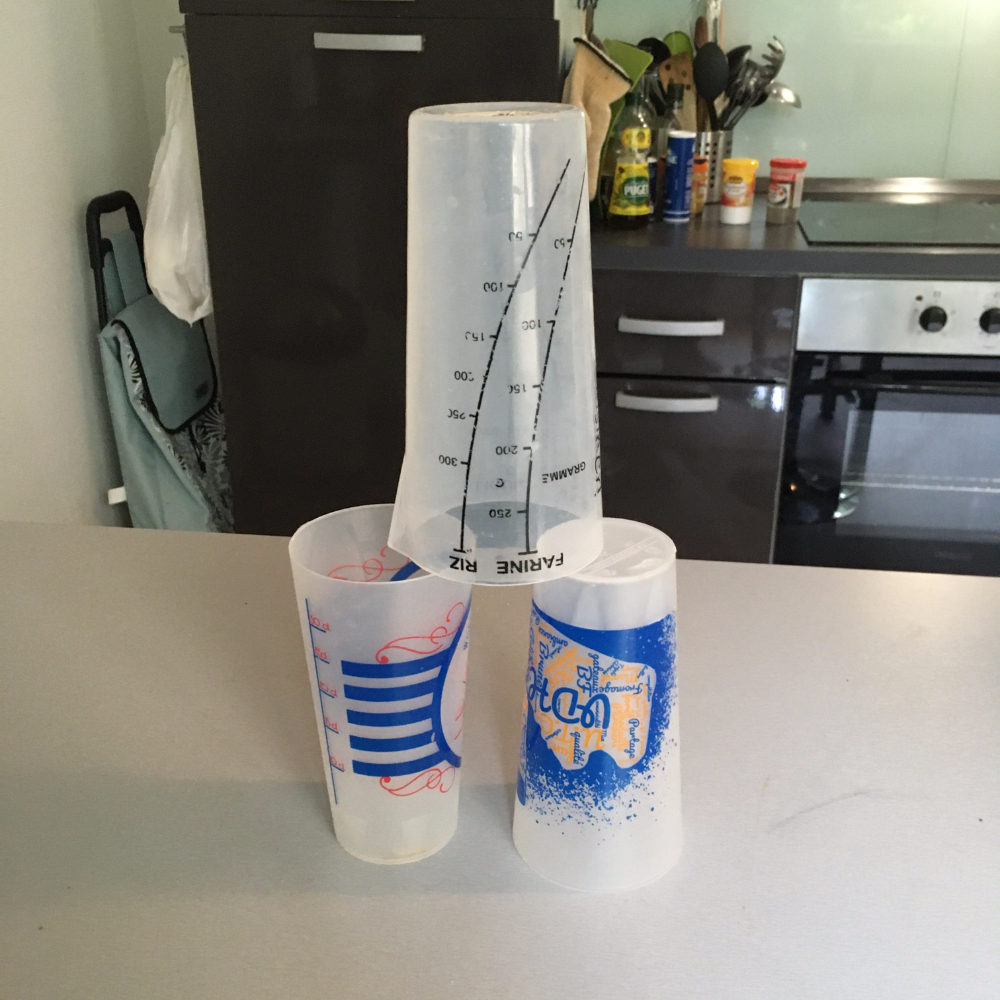ecocup: (288, 502, 477, 865), (513, 517, 683, 890)
